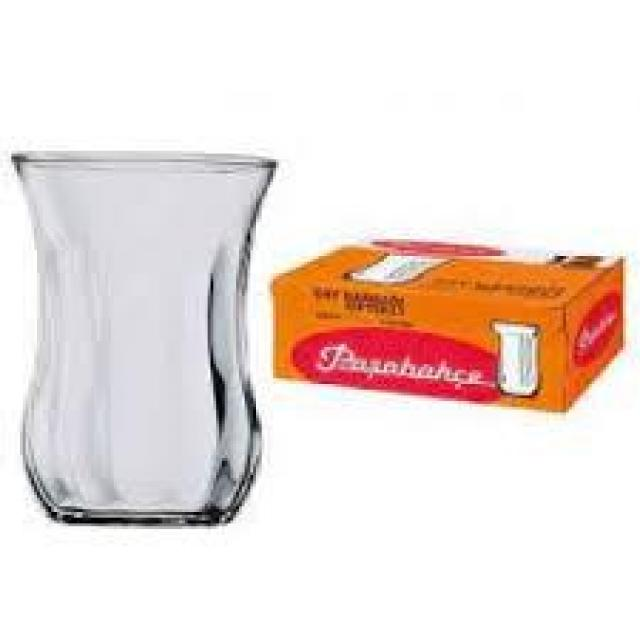non-organic waste: (10, 146, 280, 525)
